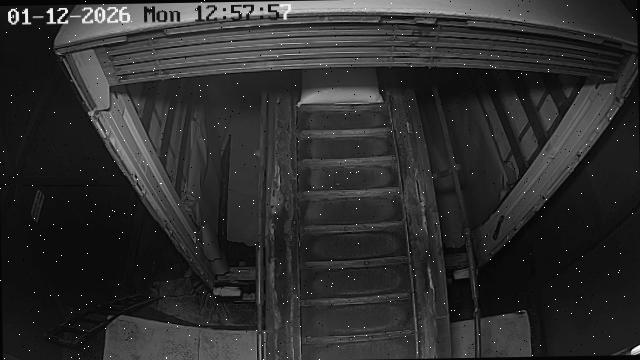bag: (296, 66, 384, 106)
